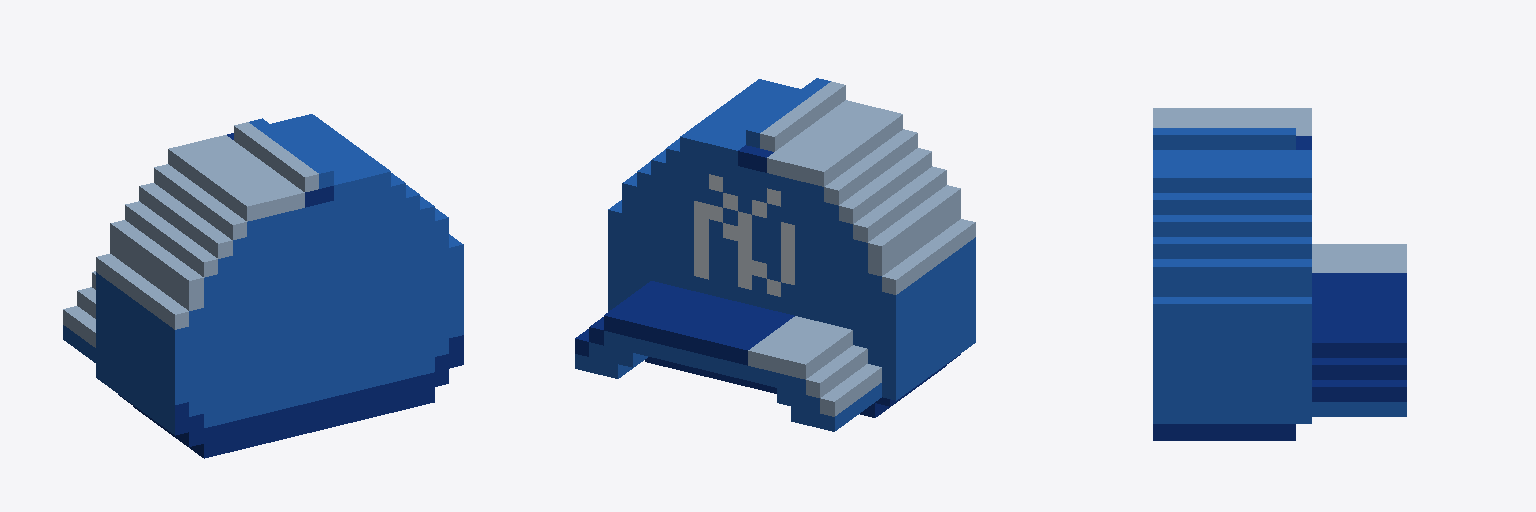
File: NYHat.obj
3 renders of one model, left to right at view 1: azimuth 30°, elevation 25°; view 2: azimuth 150°, elevation 25°; view 3: azimuth 270°, elevation 25°, orthographic.
Bounding box in the file's own units: 20 × 17 × 15.2.